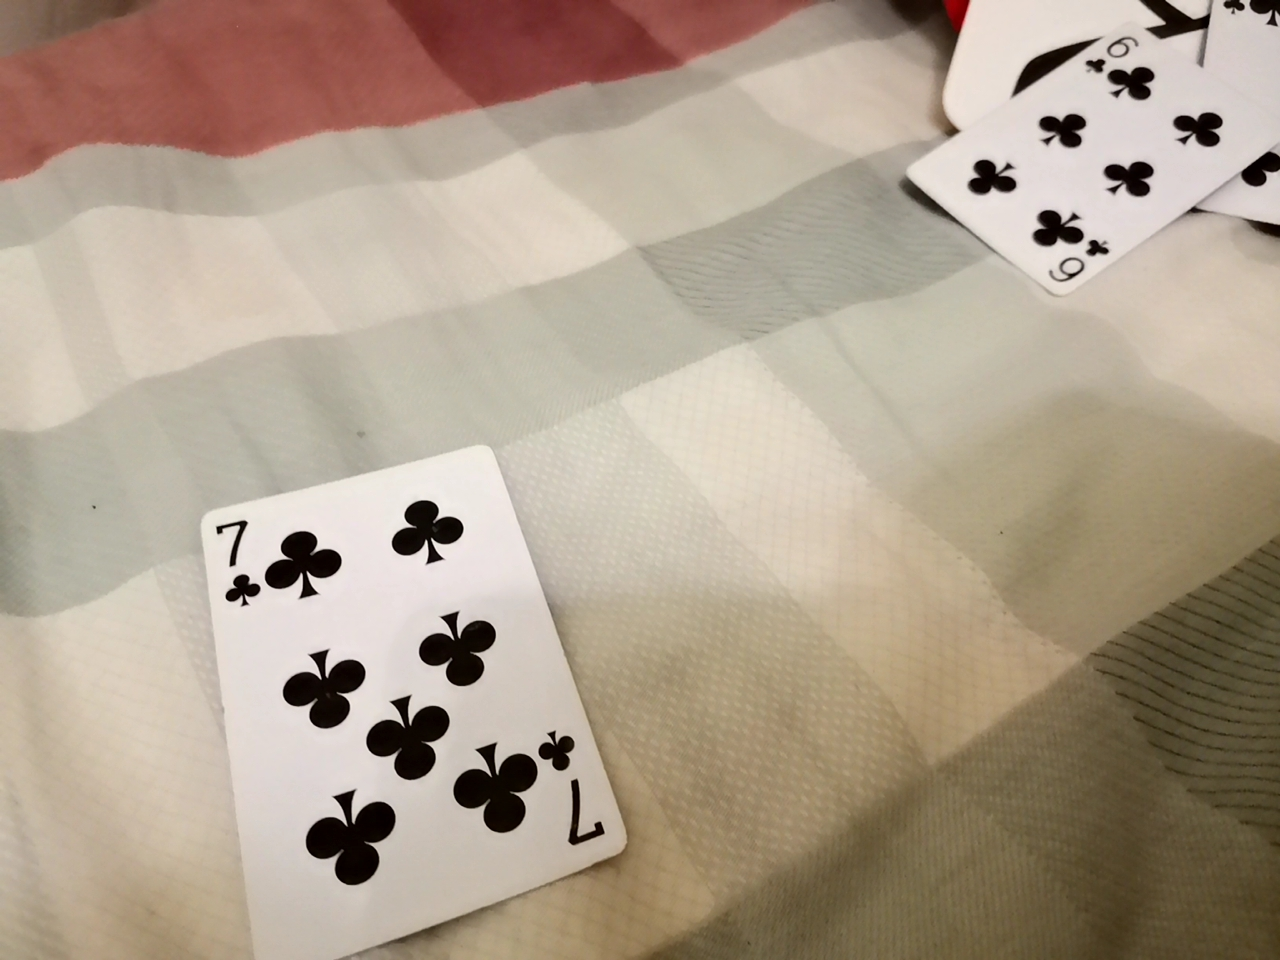mh 7: (212, 459, 597, 946)
